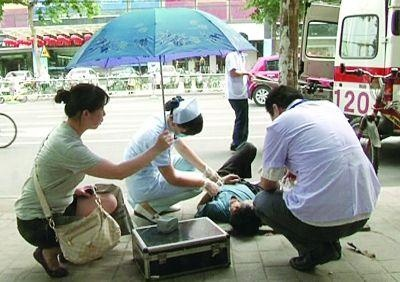falling: (190, 142, 282, 233)
